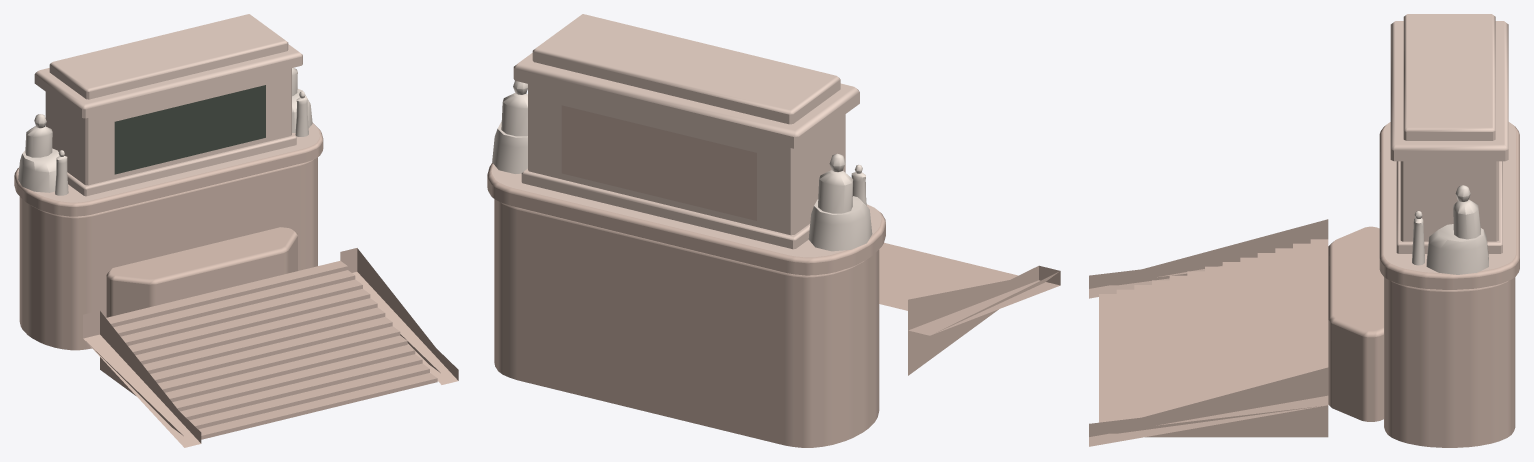
Rendered from nyc-firemens-memorial.glb.
3 renders of one model, left to right at view 1: azimuth 30°, elevation 25°; view 2: azimuth 150°, elevation 25°; view 3: azimuth 270°, elevation 25°, orthographic. The views are drawn at different scales.
Parts seen in each view (by area): view 1: Firemen's Memorial; view 2: Firemen's Memorial; view 3: Firemen's Memorial.
Boxes of the visible parts, x1,y1,x2,y2 form: Firemen's Memorial: [14, 14, 458, 447]; Firemen's Memorial: [487, 14, 1060, 447]; Firemen's Memorial: [1089, 14, 1519, 447].
Bounding box in the file's own units: 11.92 × 10 × 13.14.
